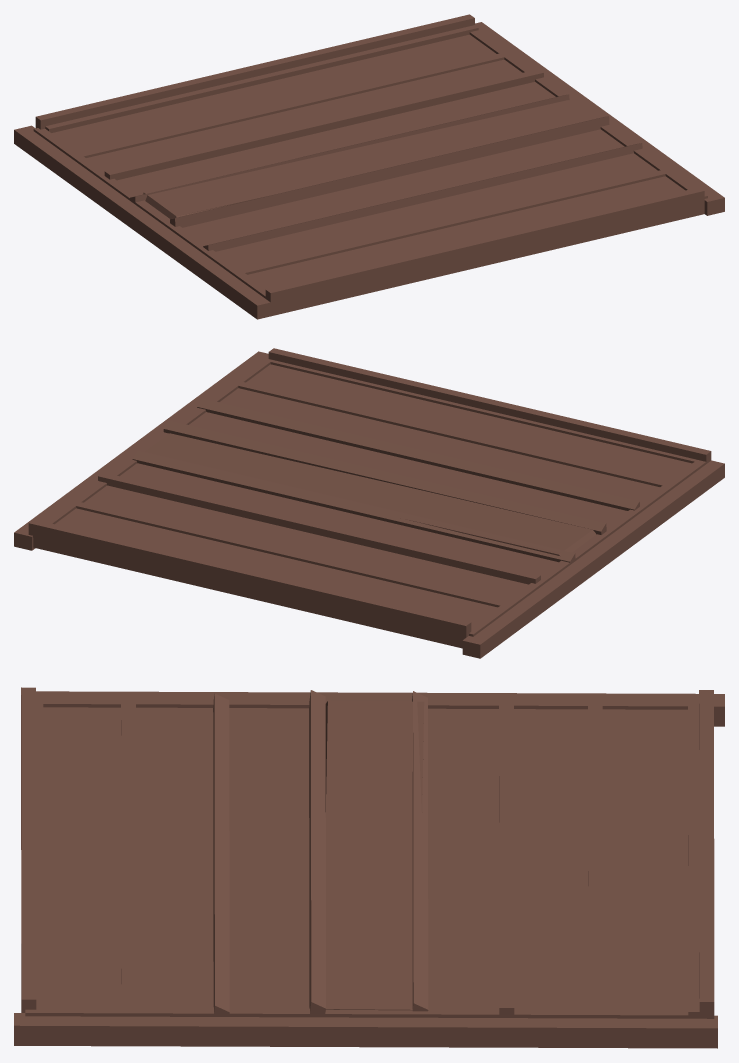
3 views of the same model, one above another, from view 1: azimuth 30°, elevation 25°; view 2: azimuth 150°, elevation 25°; view 3: azimuth 270°, elevation 25° (orthographic). The views are drawn at different scales.
Bounding box in the file's own units: 0.761 × 0.0461 × 0.6949.
